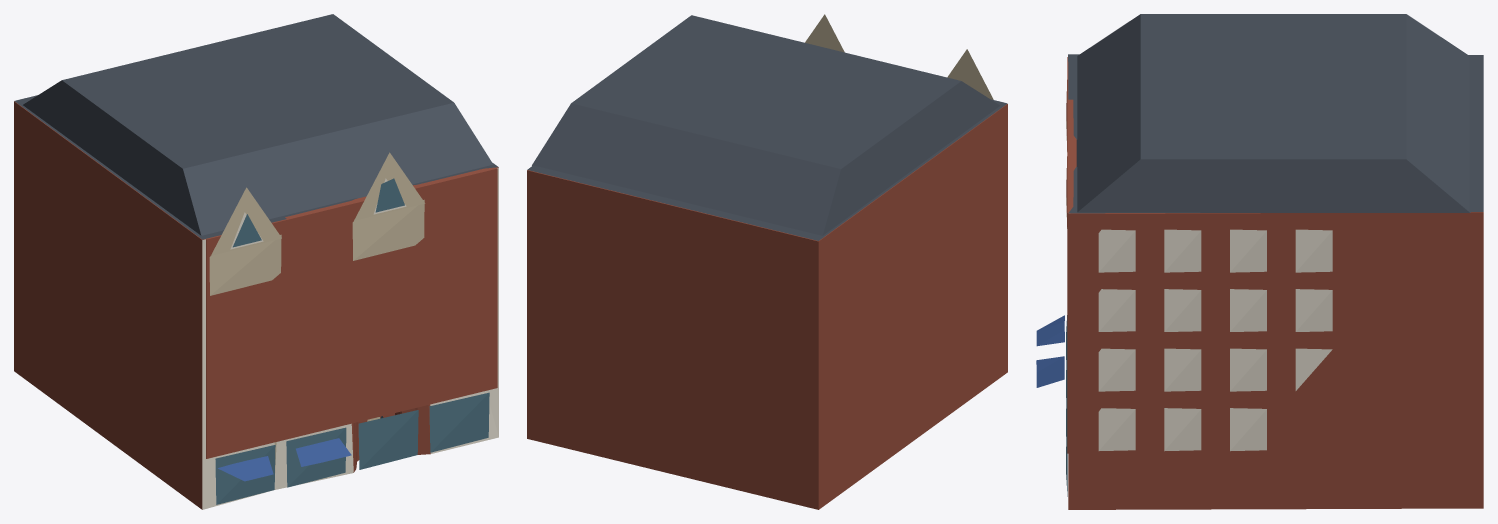
Rendered from scheltema.lod2.glb.
The picture shows the model from 3 angles, left to right: view 1: azimuth 30°, elevation 25°; view 2: azimuth 150°, elevation 25°; view 3: azimuth 270°, elevation 25°; orthographic projection. The views are drawn at different scales.
Visible parts, largest first — view 1: lod2; view 2: lod2; view 3: lod2.
Part boxes in pixels (left/top/right/bottom): lod2: left=14, top=14, right=498, bottom=509; lod2: left=527, top=14, right=1007, bottom=509; lod2: left=1036, top=14, right=1483, bottom=509.
Bounding box in the file's own units: 24.15 × 24.3 × 28.6.
